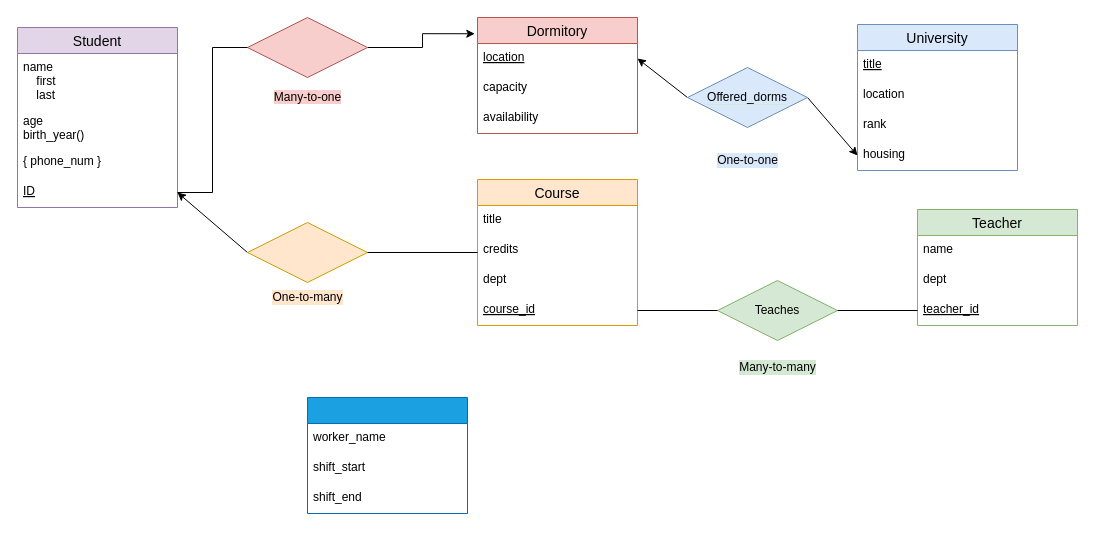
The diagram is 1095 pixels wide and 534 high, and some of its shapes have lost their labels. Each missing label, with the box of its shape:
Lives: (246, 16, 368, 78)
Office of the Registrar: (306, 396, 468, 514)
Studies: (246, 222, 368, 282)
